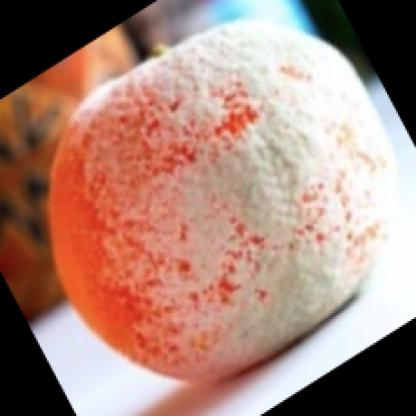rotten: (52, 22, 391, 381)
